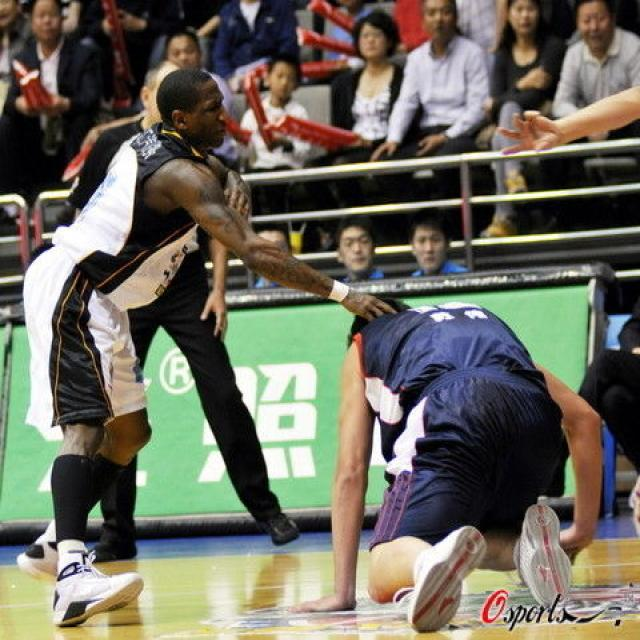10-: (2, 3, 638, 513)
down: (280, 262, 608, 622)
